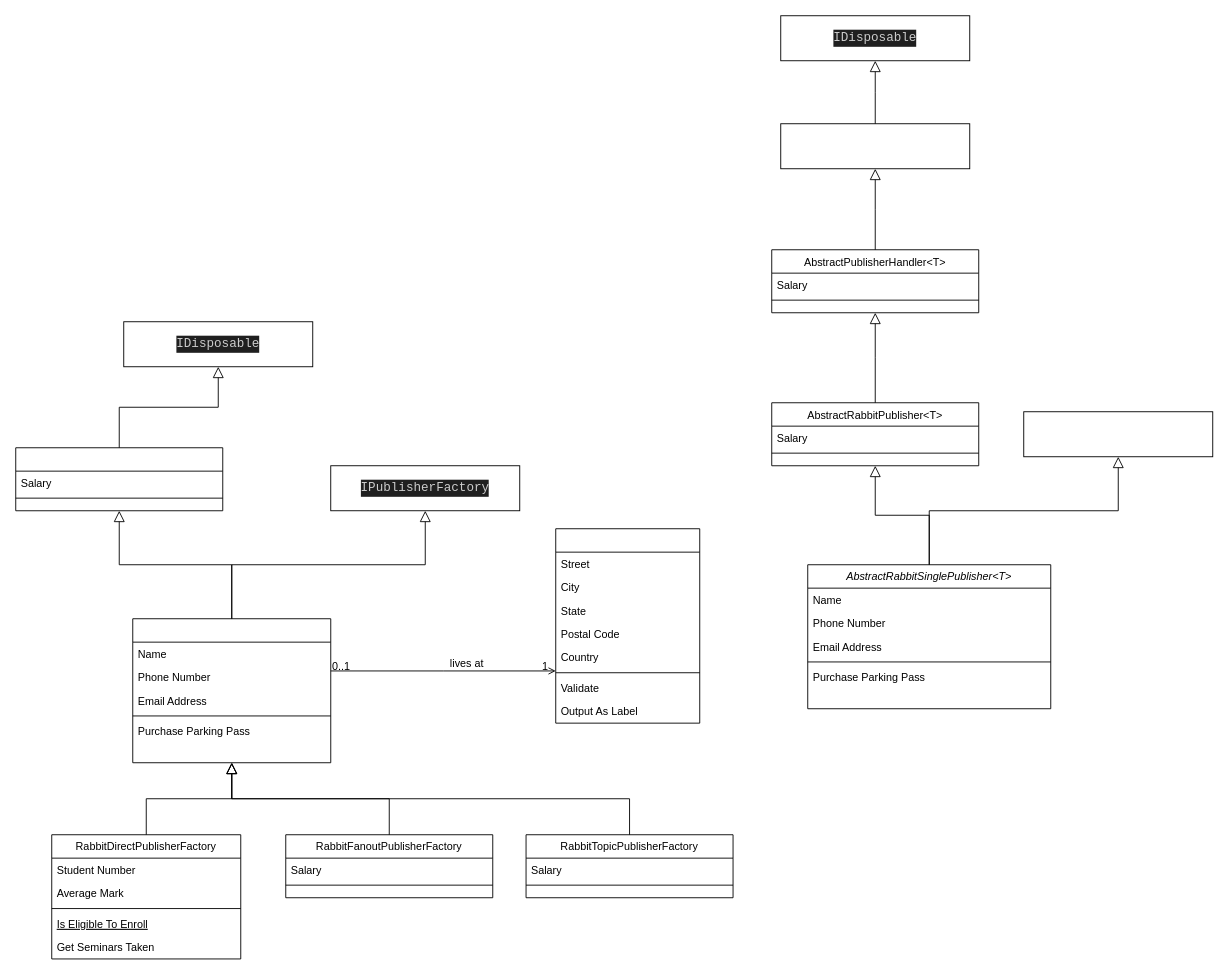
Some shapes in this 1229 by 977 pixel diagram are drawn without their labels. The shapes that lost their labels are listed below. From the top down, each one's box as (x1, y1, x2, y2) in pixels, then its label:
(780, 123, 970, 169): IHandler< T >
(1023, 411, 1213, 457): IPublisher< T >
(15, 447, 223, 511): AbstractRabbitExchangeFactory
(555, 528, 700, 723): Address
(132, 618, 331, 763): AbstractRabbitPublisherFactory
